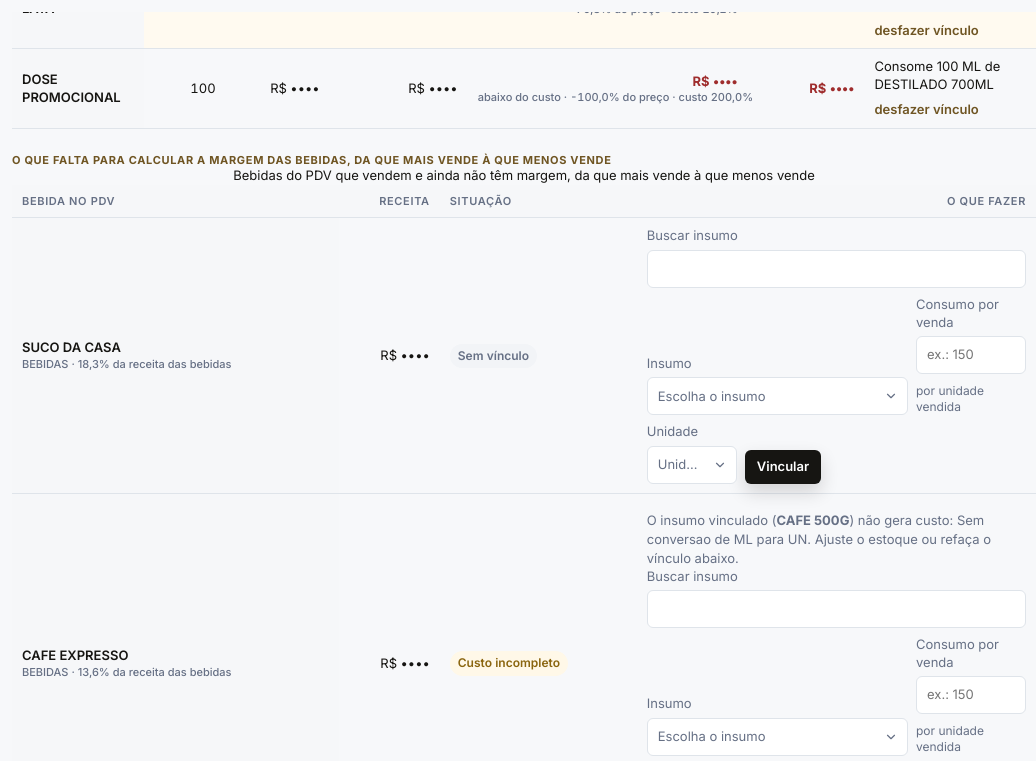
Scenario: MargemBebidasPanel: o que falta › quantidade invalida (texto): erro anunciado e nao grava
(page scrolled)
Select "POLPA DE FRUTA 1KG (UN)" in the dropdown named "Insumo comprado para SUCO DA CASA" at (777, 396), box top-left (647, 377), bottom-right (908, 415)
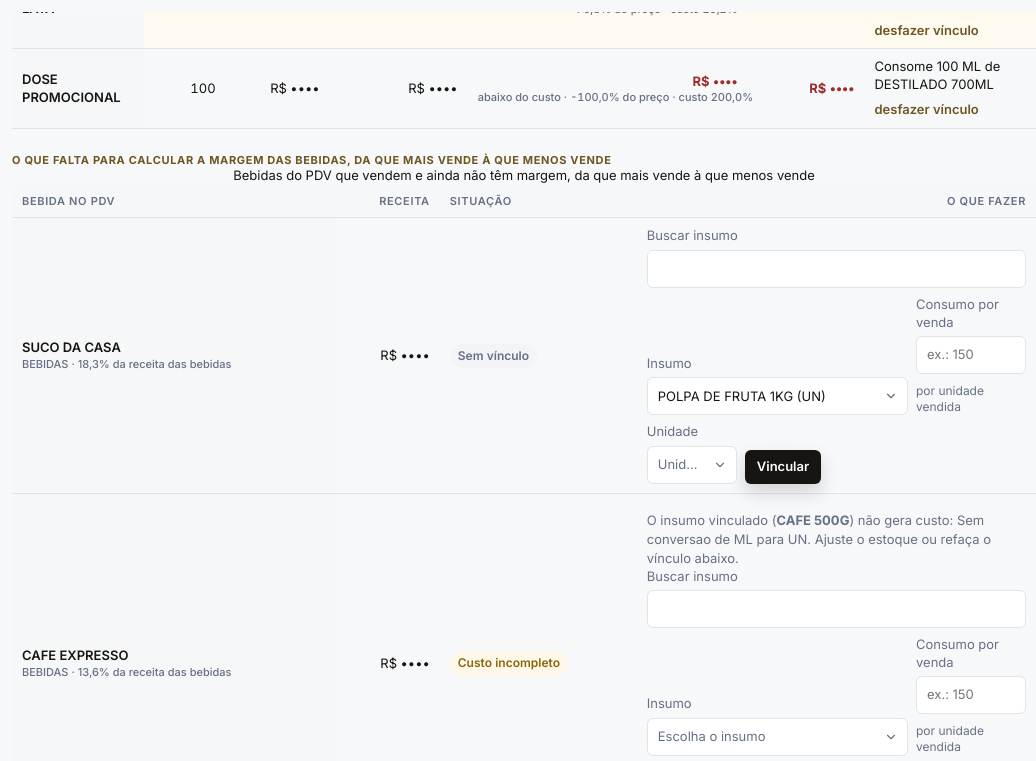
Type "abc" into the field named "Quanto uma venda de SUCO DA CASA consome" at (971, 355), box top-left (916, 336), bottom-right (1026, 374)
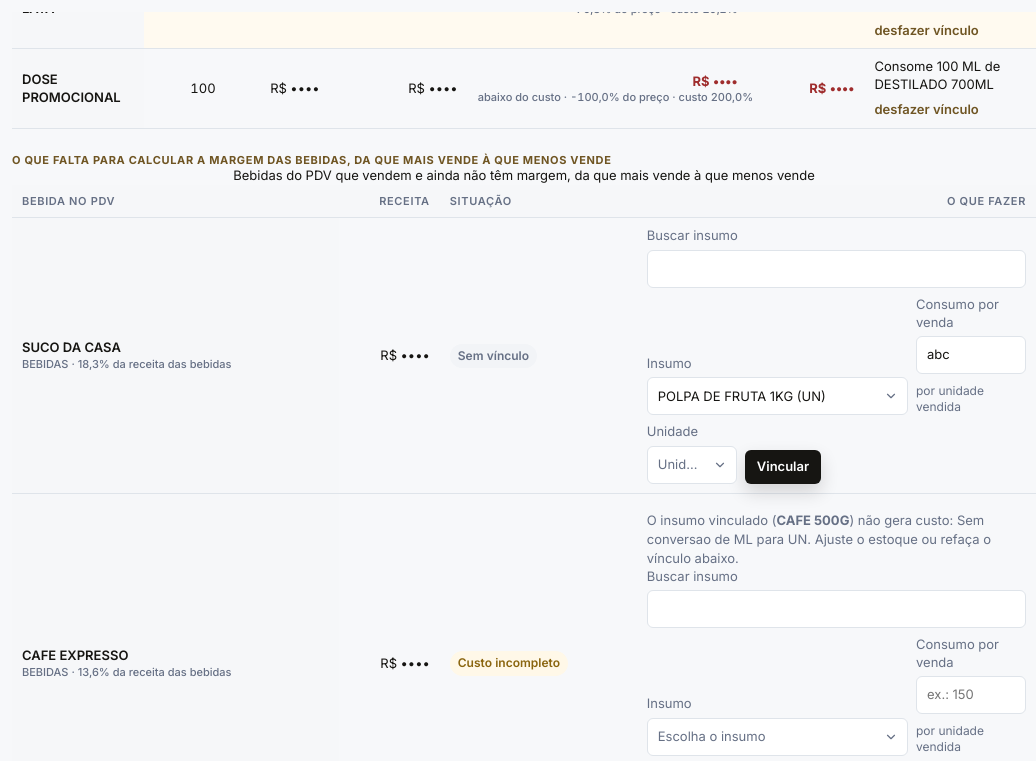
Select "UN" in the dropdown named "Unidade do consumo de SUCO DA CASA" at (692, 465), box top-left (647, 446), bottom-right (737, 484)
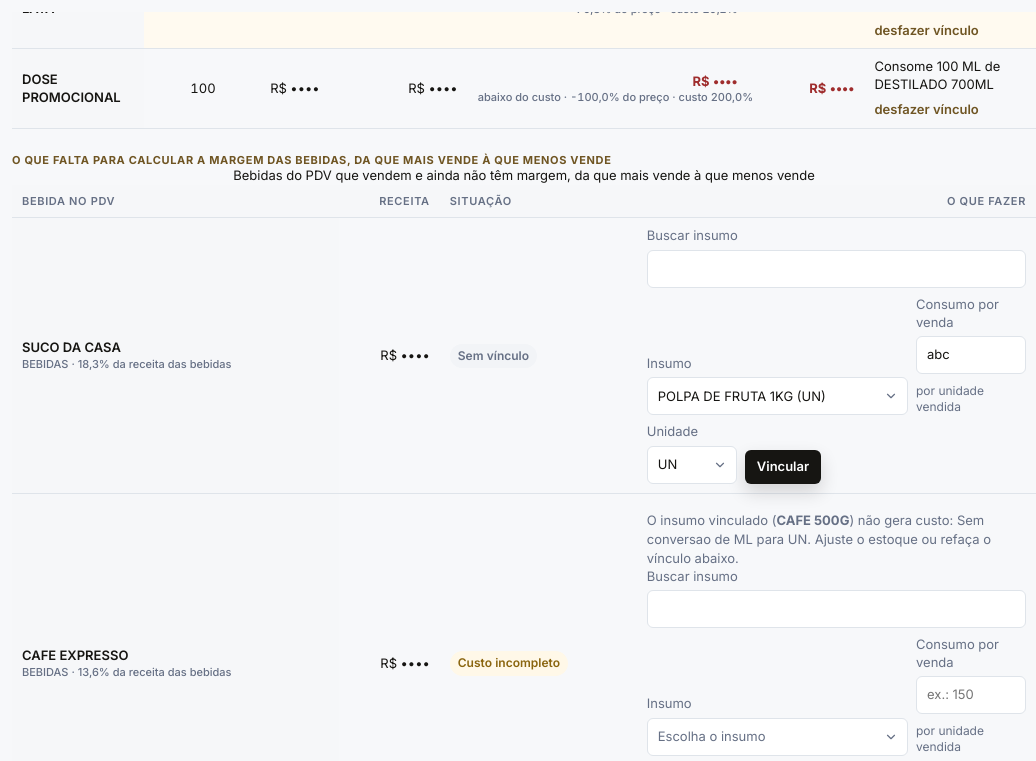
Click the button with aria-label "Vincular SUCO DA CASA" at (783, 467), box top-left (745, 450), bottom-right (821, 484)
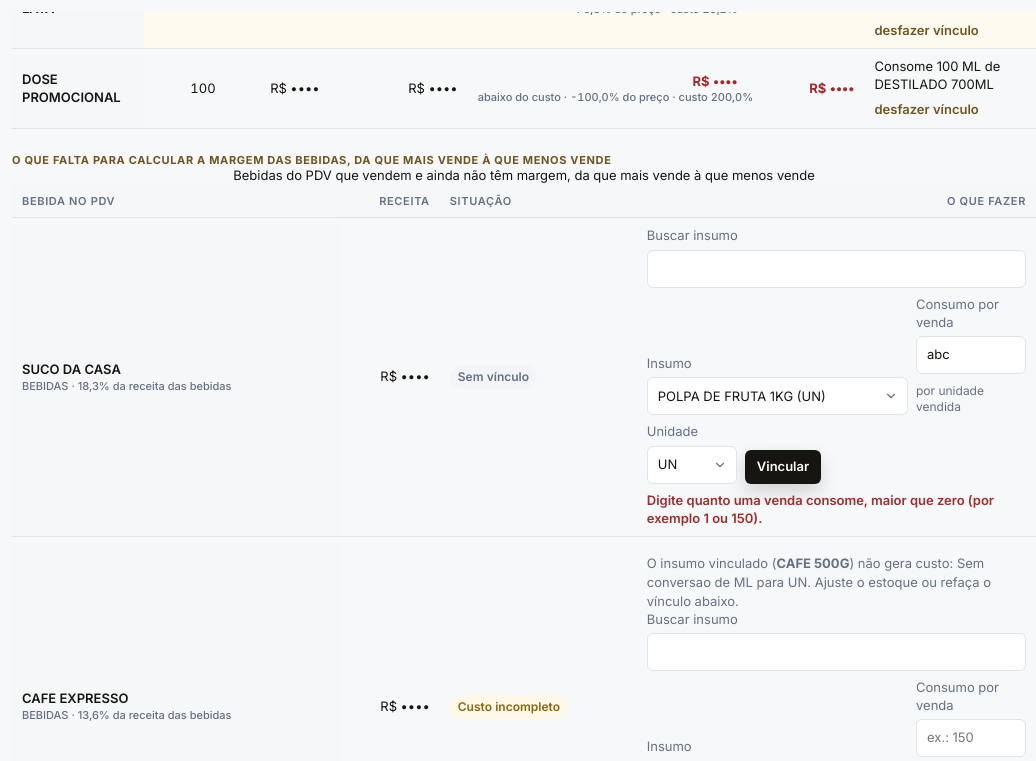
Expected: the message shows "maior que zero", top-left (647, 492), bottom-right (994, 526)
